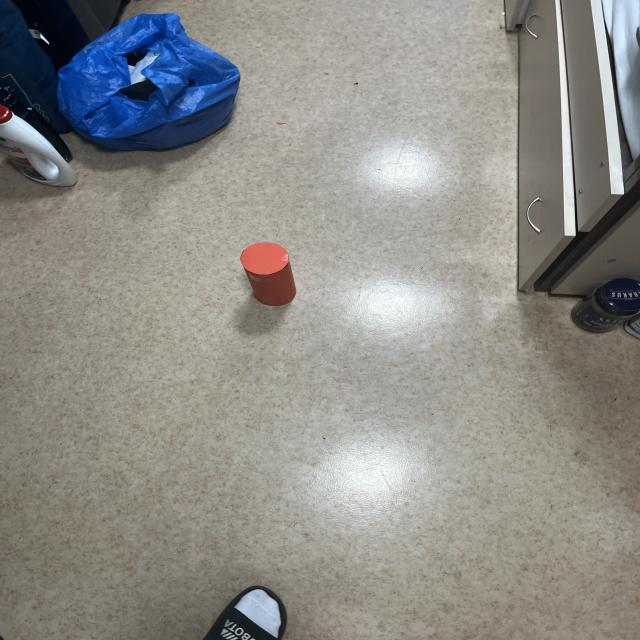przeszkoda: (241, 243, 296, 306)
